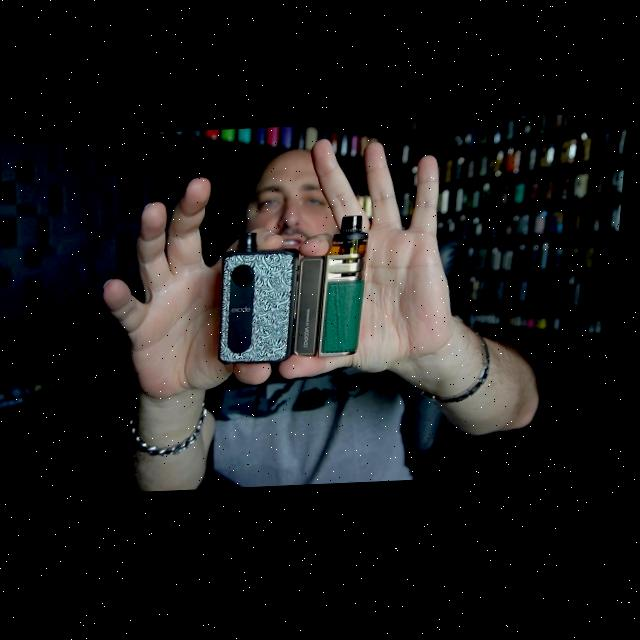vape: (219, 232, 305, 368), (298, 217, 375, 362)
